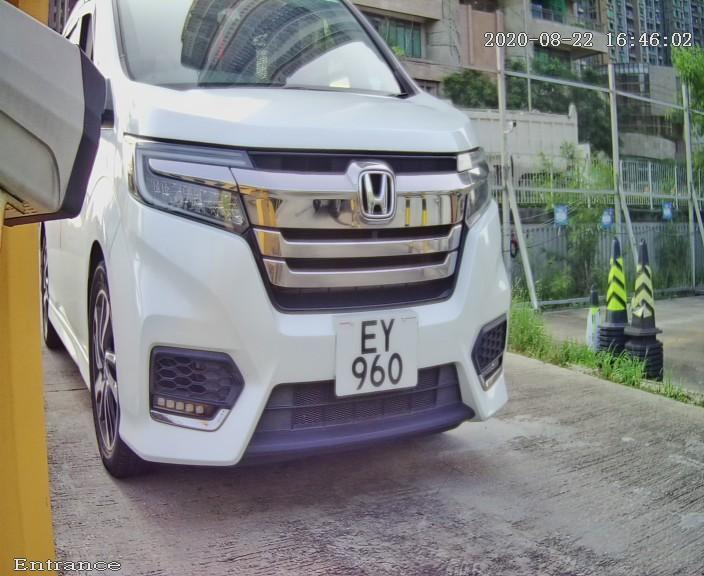Car: (26, 1, 547, 528)
License Plate: (324, 299, 428, 407)
